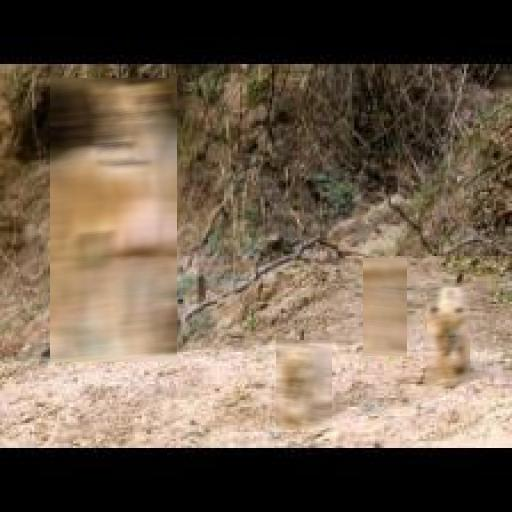lion: (50, 78, 177, 362), (276, 340, 332, 428), (427, 284, 470, 388), (363, 258, 407, 356)
